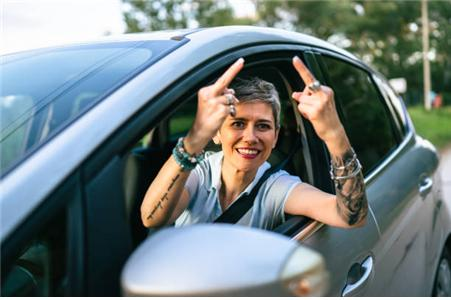insulting_gesture: (288, 56, 346, 143), (195, 57, 246, 135)
